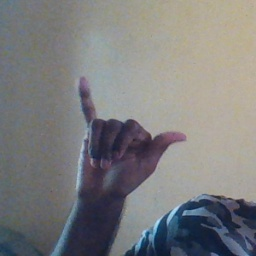J: (71, 76, 187, 193)
